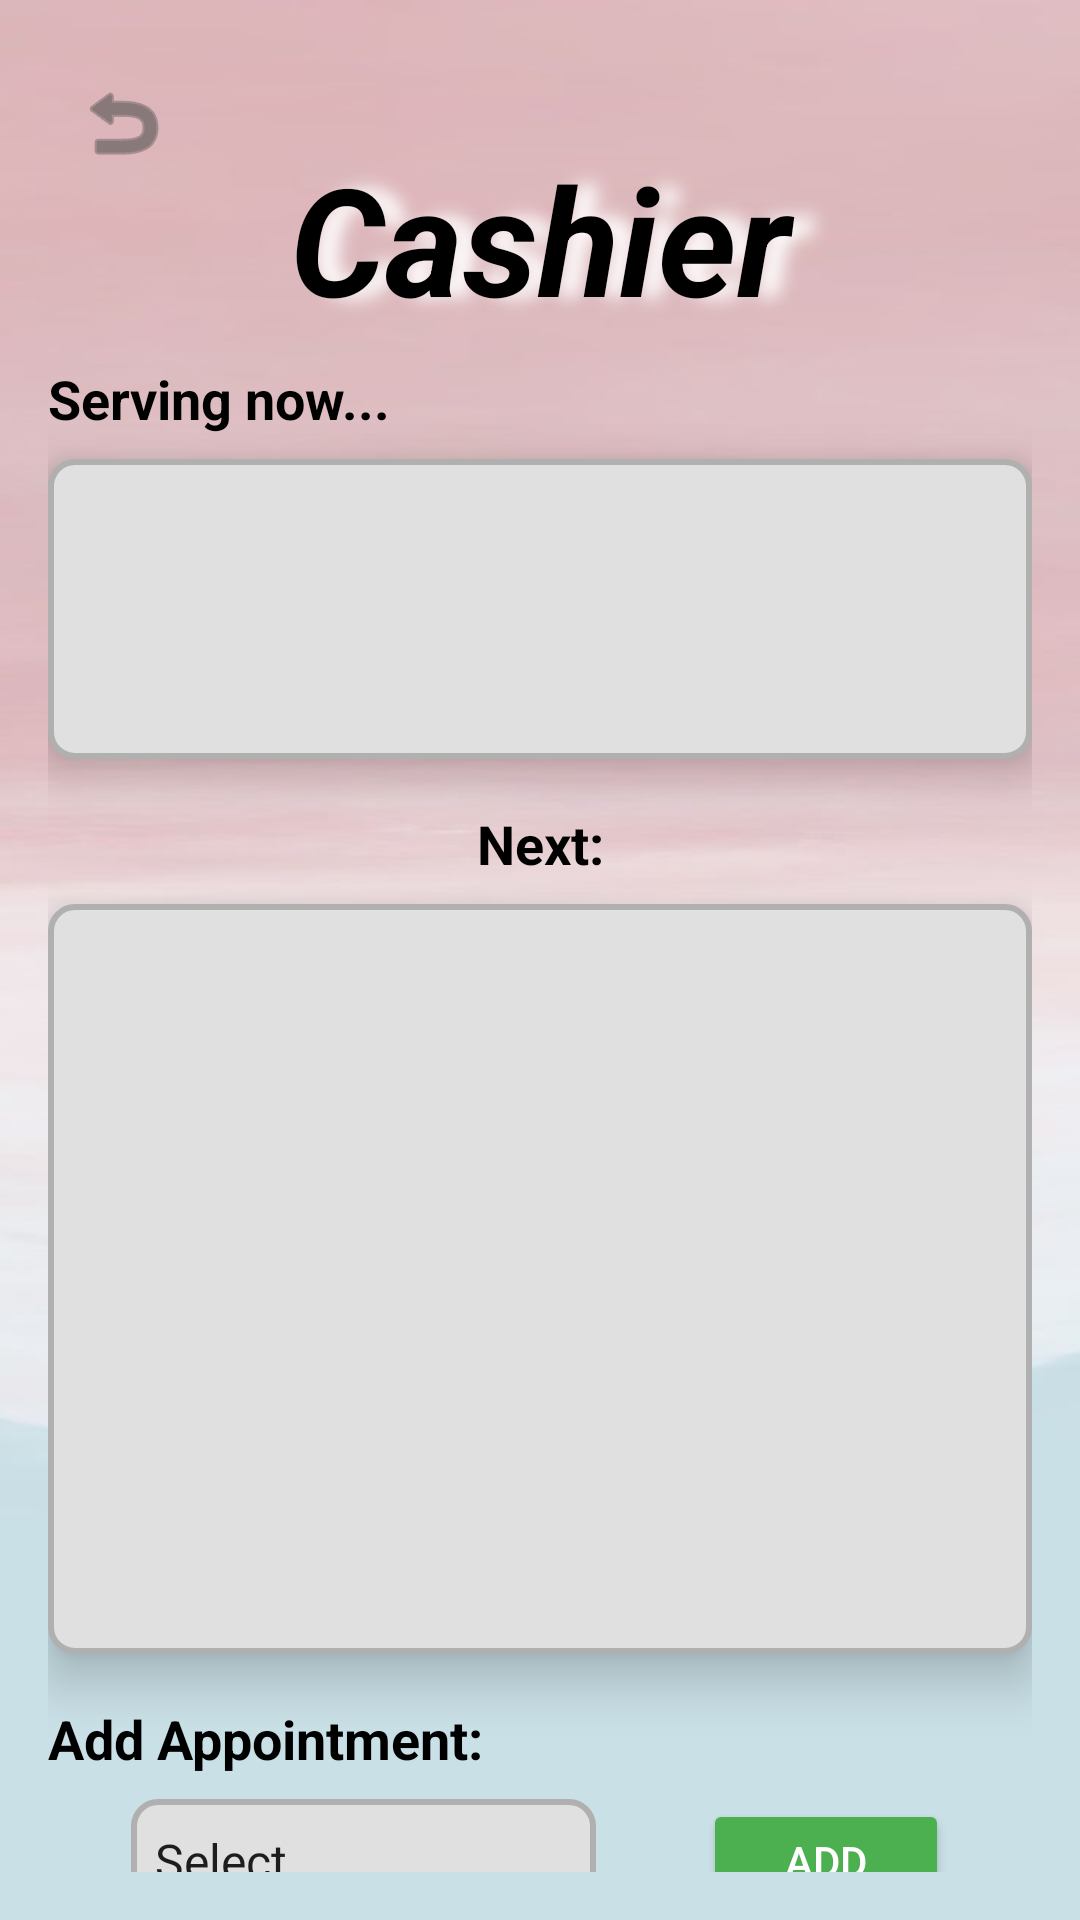

Icons on this 1080x1920 Android screen, each with the point to tap as (x=x, y=y):
Back: (x=124, y=124)
